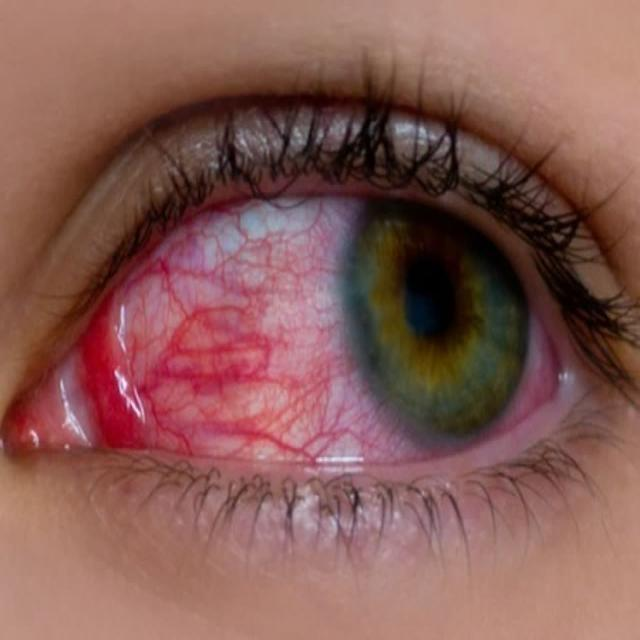Conjunctivitis: (15, 188, 598, 488)
